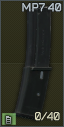MP7 4.6x30 40-round magazine: (0, 0, 64, 127)
